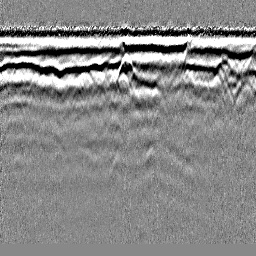cavity: (114, 54, 136, 84)
